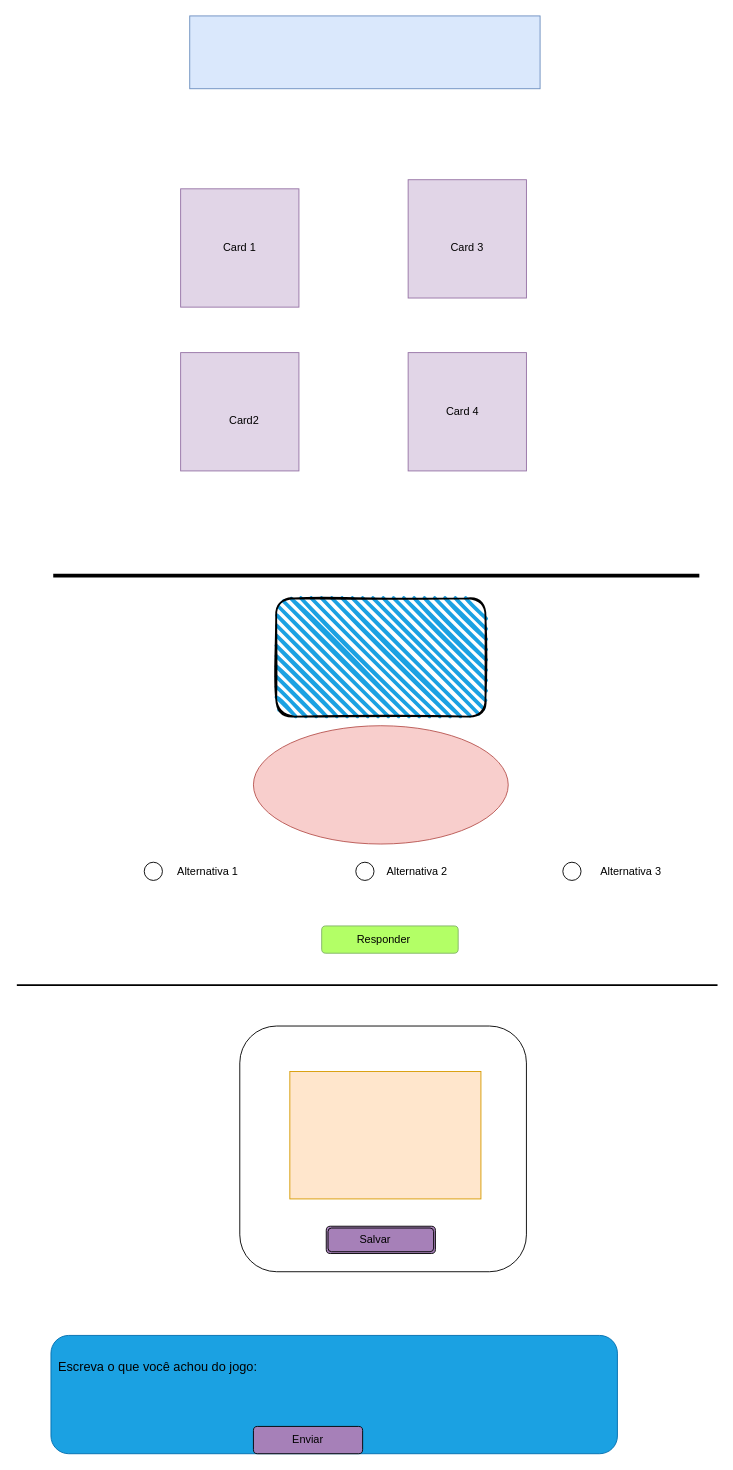
This 733x1470 diagram has some shape labels left out. The shapes that lost their labels are listed below. From the top down, each one's centre as x and y in pixels, then its label:
the point at 364,52: Jogo Perguntas e respostas
the point at 380,657: Imagem
the point at 380,784: Pergunta
the point at 385,1135: Parabéns! Você finalizou o jogo! Sua pontuação é de 1000 pontos!
